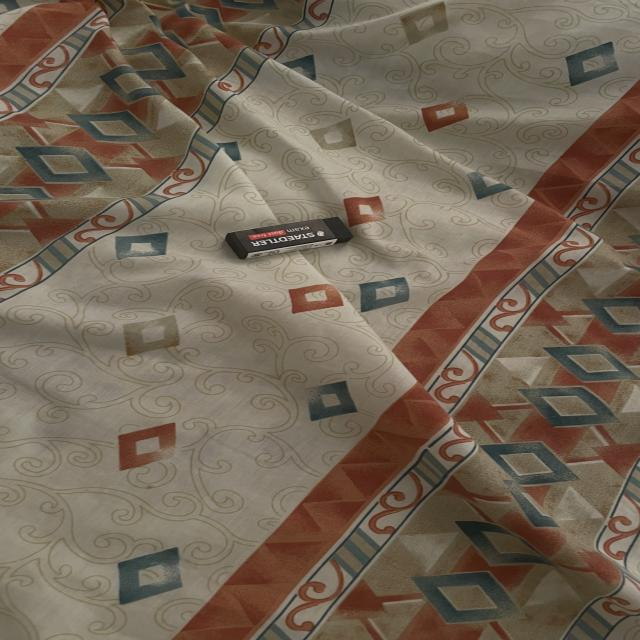eraser: (226, 217, 352, 259)
